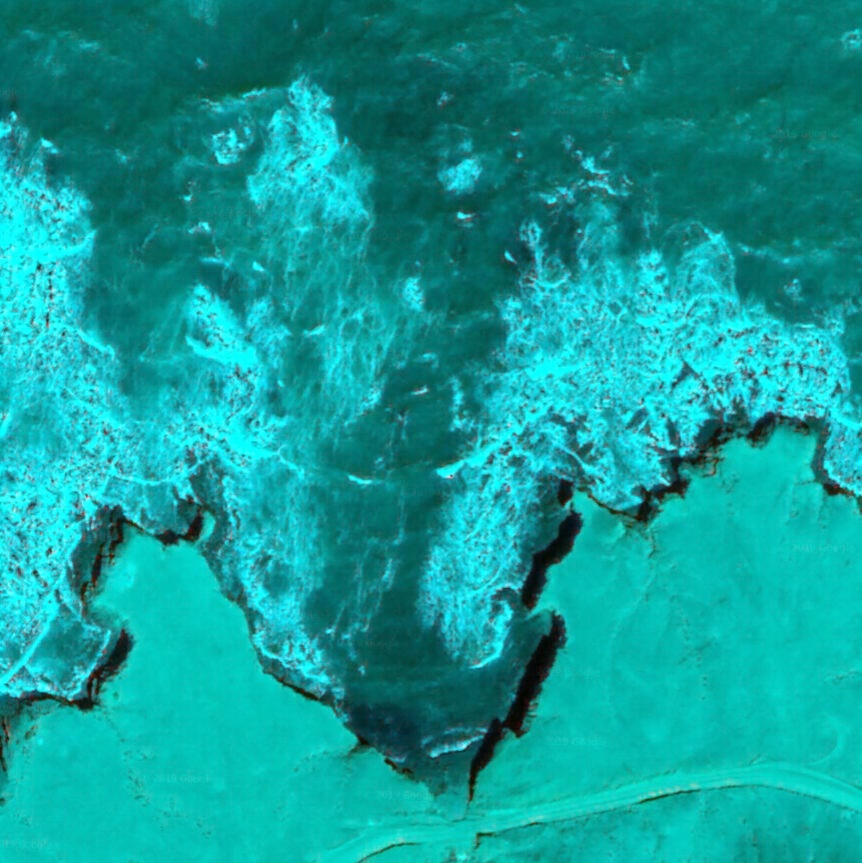rip_current: (237, 173, 513, 652)
